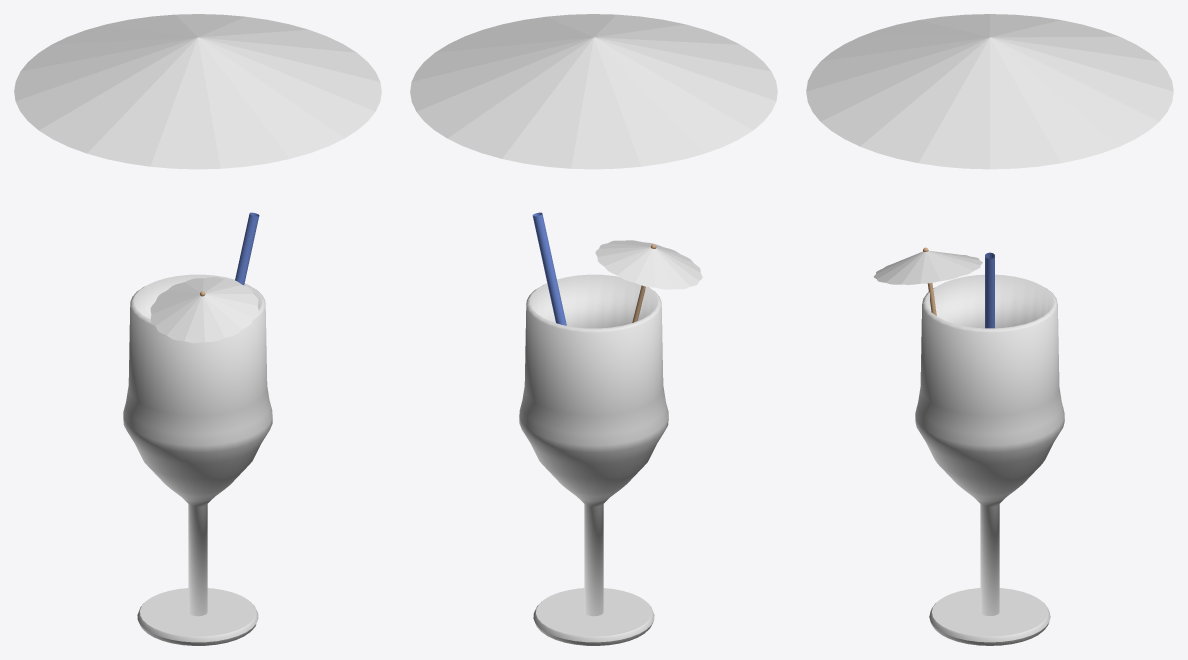
File: cup s.fbx
The picture shows the model from 3 angles, left to right: view 1: azimuth 30°, elevation 25°; view 2: azimuth 150°, elevation 25°; view 3: azimuth 270°, elevation 25°; orthographic projection.
Visible parts, largest first — view 1: BézierCircle.001, Cylinder.002, BézierCircle.002, Circle, Cylinder.003; view 2: BézierCircle.001, Cylinder.002, Circle, BézierCircle.002, Cylinder.003; view 3: BézierCircle.001, Cylinder.002, Circle, BézierCircle.002, Cylinder.003.
Part boxes in pixels (x1=…): BézierCircle.001: x1=14, y1=14, x2=381, y2=169; Cylinder.002: x1=123, y1=274, x2=272, y2=616; BézierCircle.002: x1=150, y1=277, x2=258, y2=343; Circle: x1=137, y1=588, x2=258, y2=645; Cylinder.003: x1=235, y1=212, x2=259, y2=285; BézierCircle.001: x1=410, y1=14, x2=777, y2=169; Cylinder.002: x1=519, y1=274, x2=668, y2=616; Circle: x1=533, y1=588, x2=654, y2=645; BézierCircle.002: x1=595, y1=240, x2=702, y2=289; Cylinder.003: x1=532, y1=212, x2=566, y2=325; BézierCircle.001: x1=806, y1=14, x2=1173, y2=169; Cylinder.002: x1=915, y1=274, x2=1064, y2=615; Circle: x1=929, y1=588, x2=1050, y2=645; BézierCircle.002: x1=874, y1=251, x2=982, y2=284; Cylinder.003: x1=985, y1=252, x2=994, y2=328.
Size of the model in its own units: 200 by 351 by 200.
